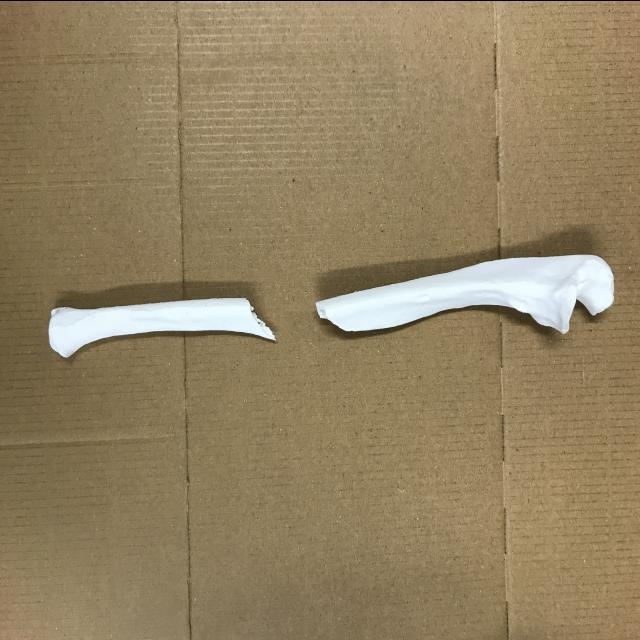bone: (312, 246, 622, 344), (39, 284, 282, 358)
